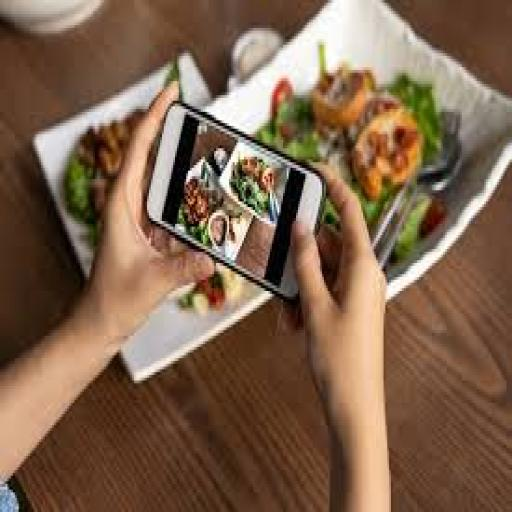phone: (164, 98, 321, 308)
